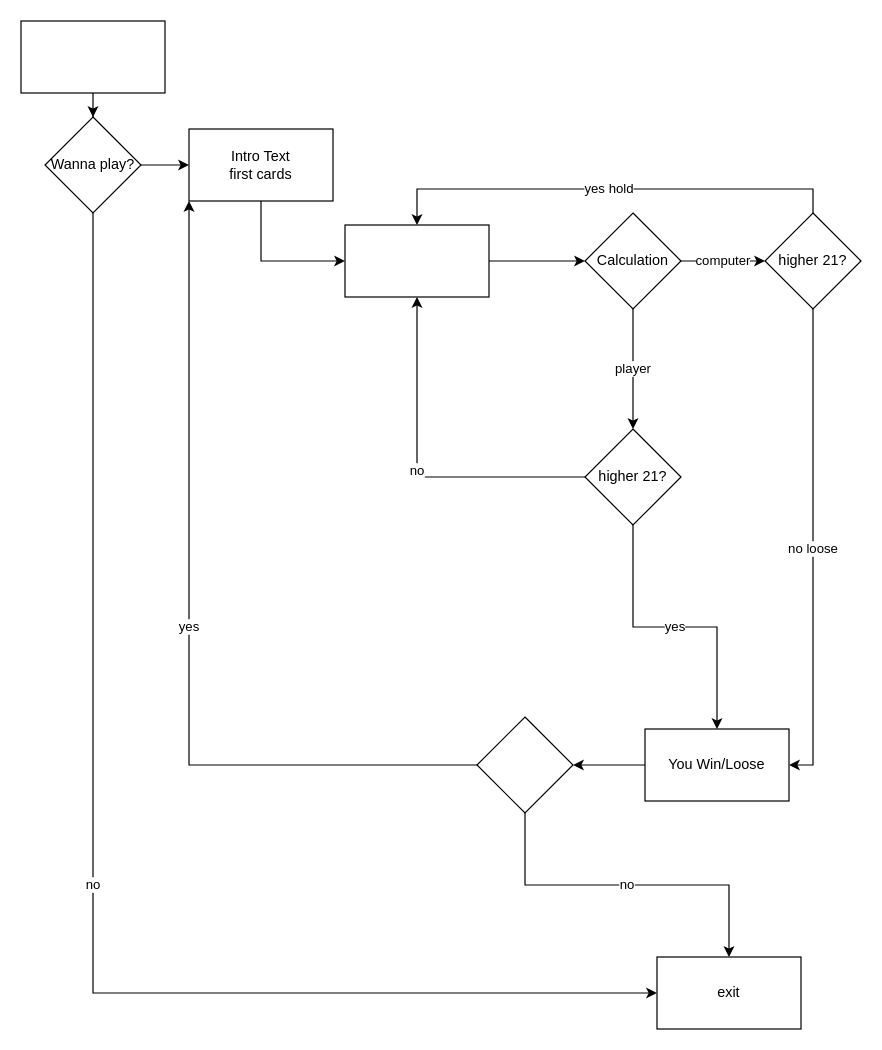
Some shapes in this 882 by 1050 pixel diagram are drawn without their labels. Here are the shapes that lost their labels. From the top down, the centre of each, then its label:
(92,56): Start
(416,260): new card or hold
(524,764): new game?
